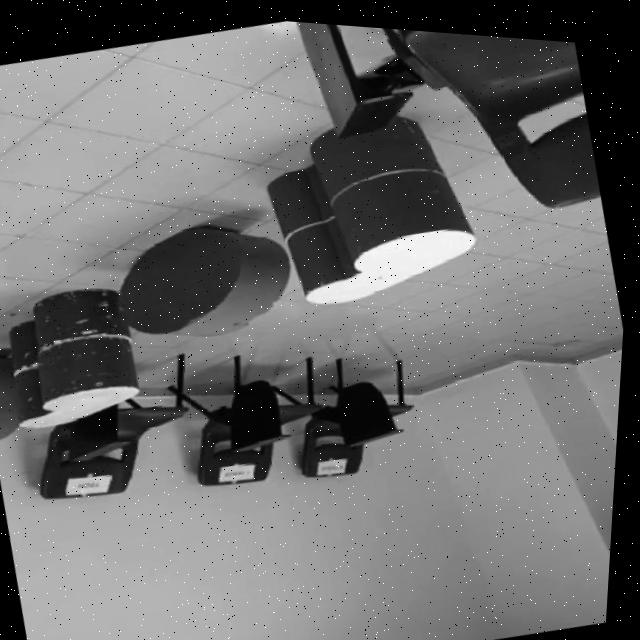sandalye: (383, 22, 602, 198), (46, 351, 193, 498), (172, 352, 325, 482), (305, 352, 417, 472)
